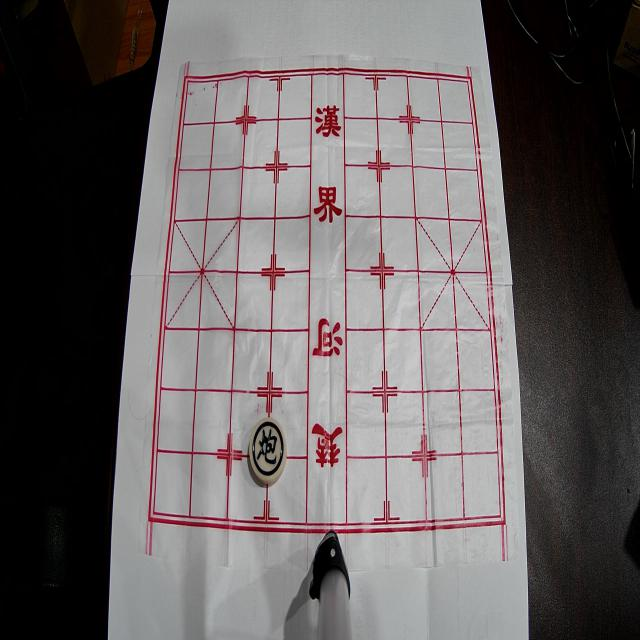black-cannon: (250, 417, 286, 484)
